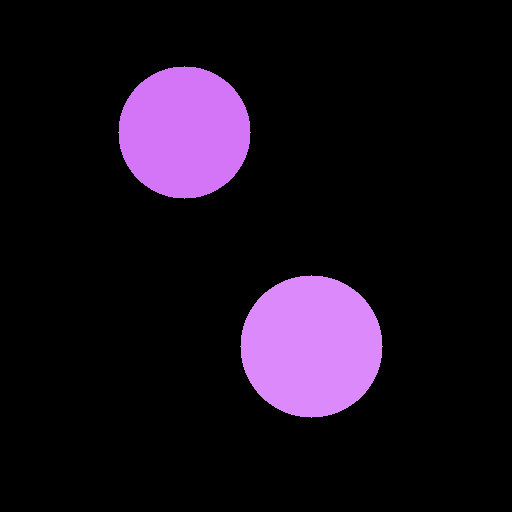circle: (240, 275, 382, 417), (118, 66, 250, 198)
